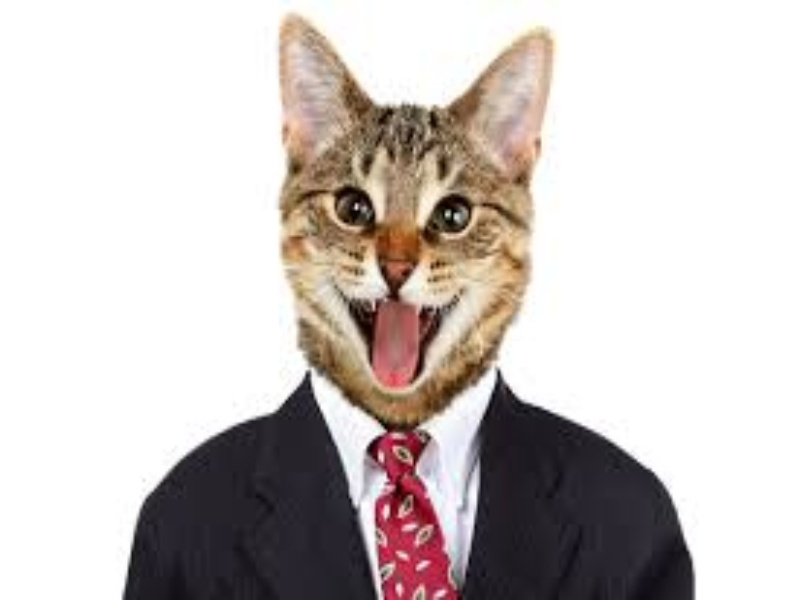cat: (236, 8, 593, 409)
